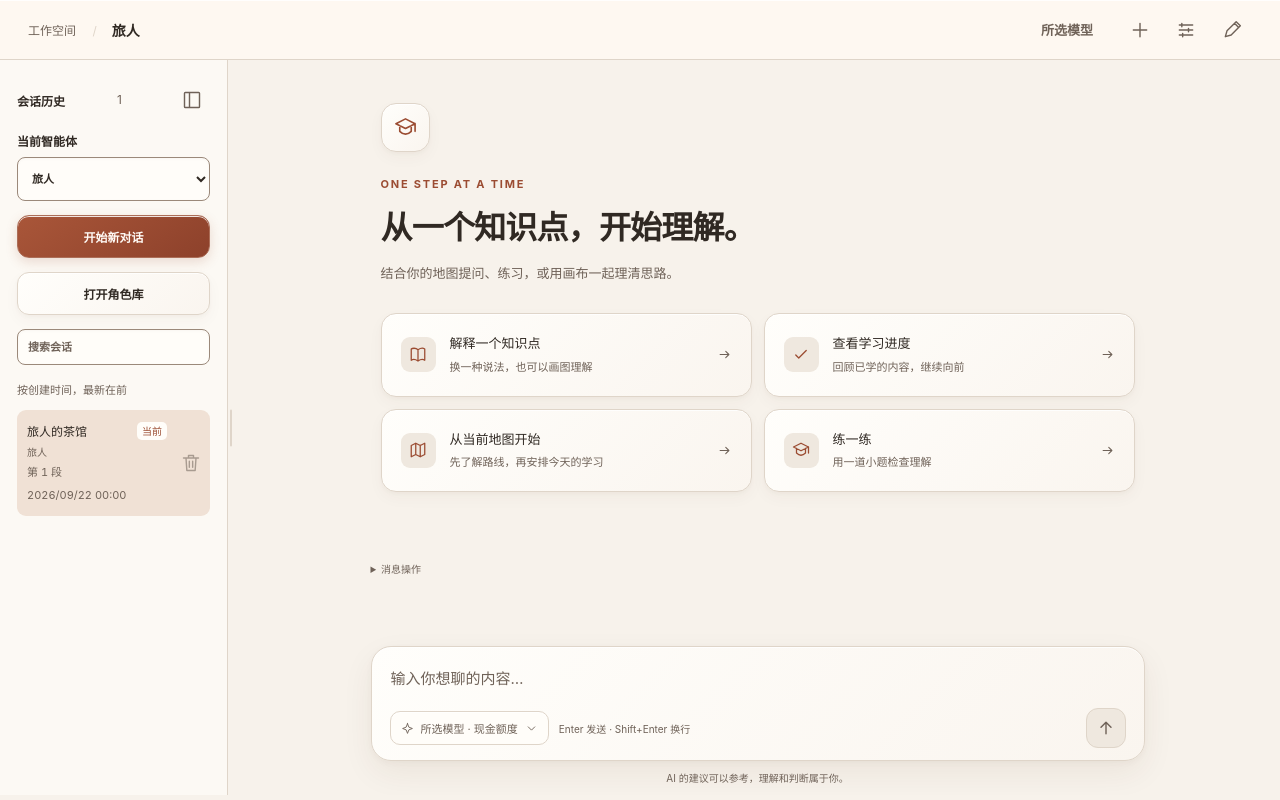
Test: shows the outgoing question before streamed tool progress and assistant text
Expected: the heading "消息操作" is shown, 381,563 -> 421,575
Step 1. Type "请用画布介绍这个知识点" into the text box named "消息" → (758, 686), box 390,664 -> 1126,708
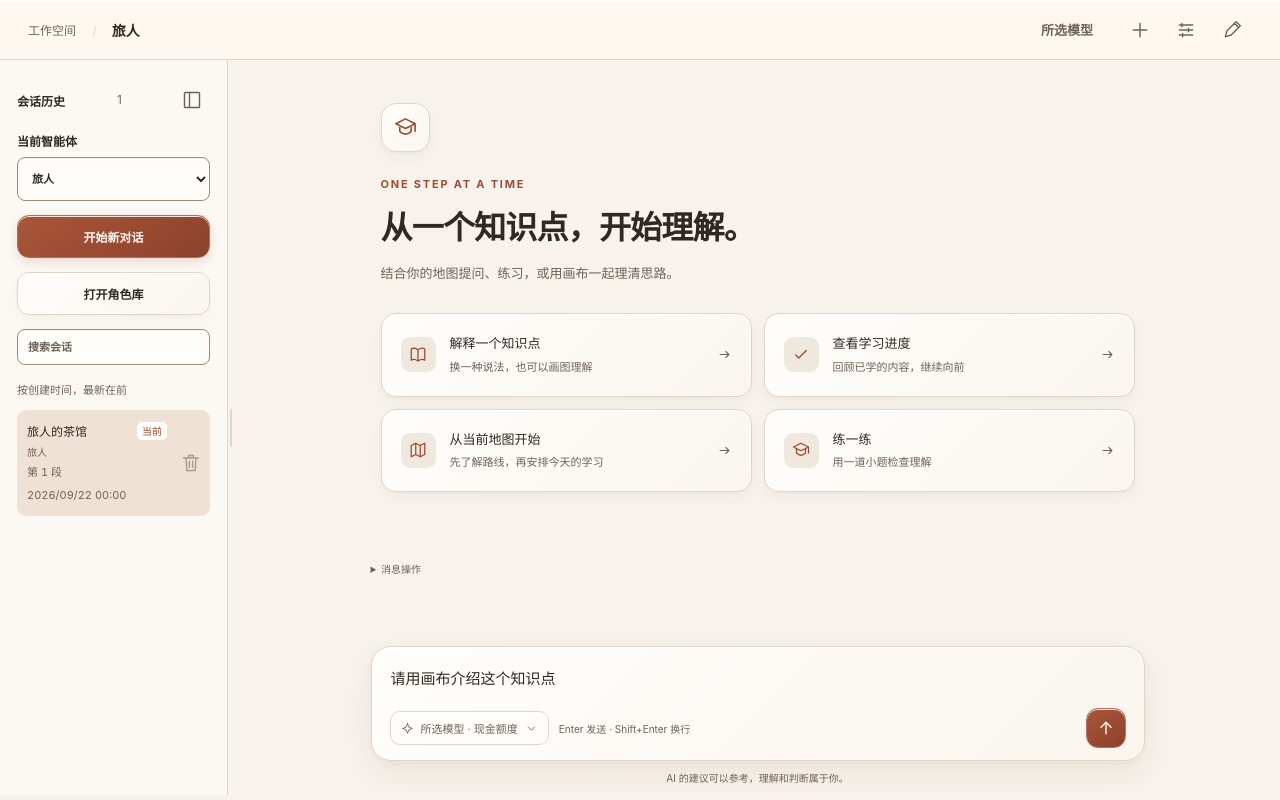
Step 2. Click the button named "发送" → (1106, 728), box 1086,708 -> 1126,748
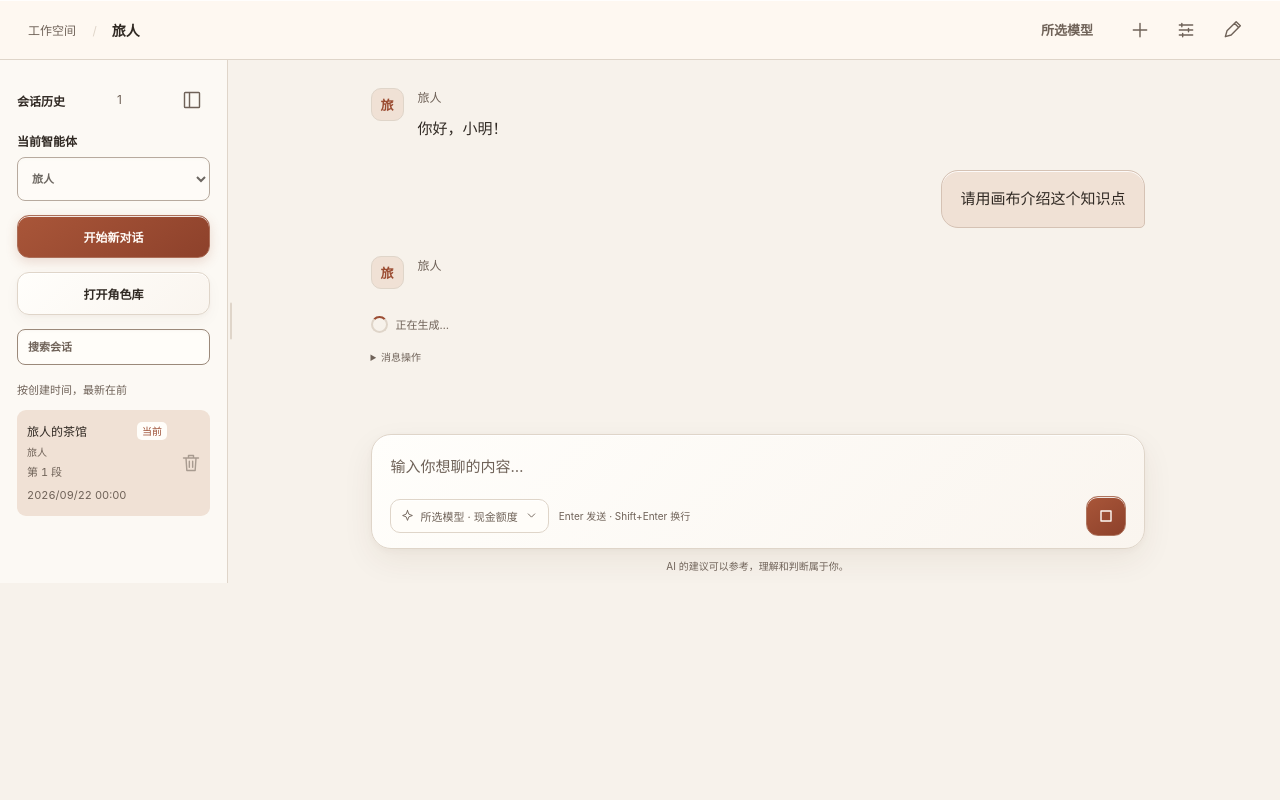
Result: the text "请用画布介绍这个知识点" is shown at 960,184 -> 1126,214
Result: the element with class "mf-message--user" reads "请用画布介绍这个知识点" at 960,189 -> 1126,208
Result: the heading "从一个知识点，开始理解。" is gone
